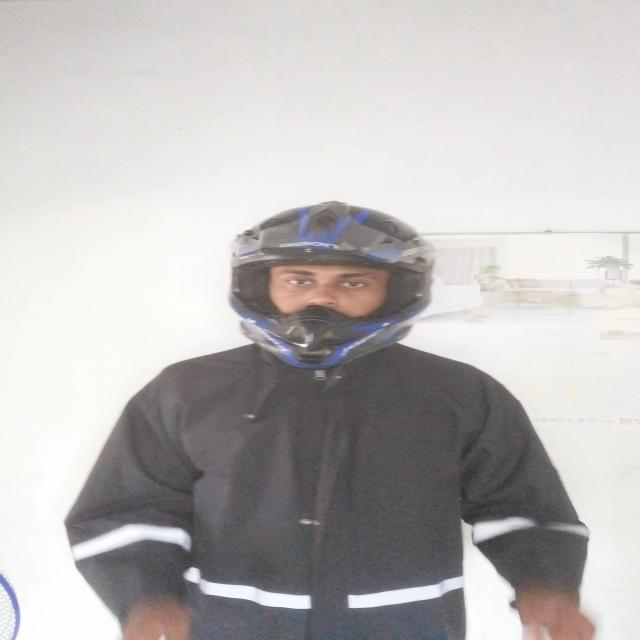Helmet_Wearer: (206, 194, 449, 382)
Jacket_Wearer: (62, 295, 604, 633)
Person: (64, 190, 597, 640)
